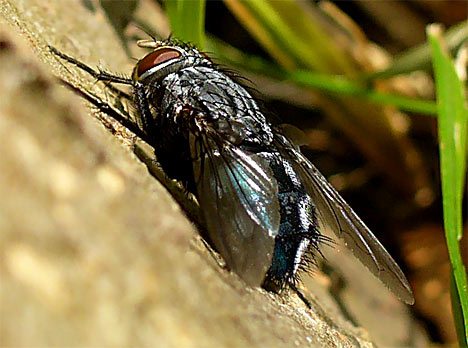green bottles flies: (44, 14, 425, 343)
